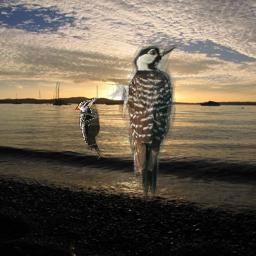Woodpecker: (108, 45, 180, 210), (75, 97, 100, 161)
